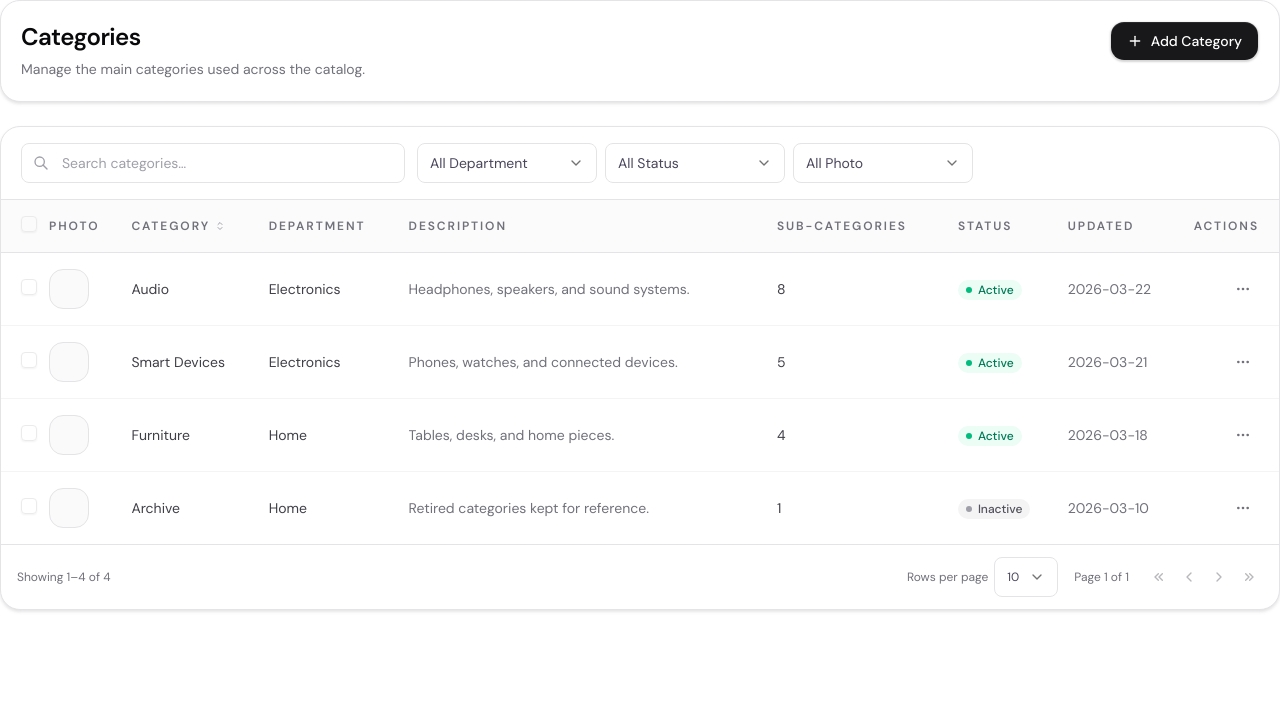
Test case: CategoriesModule › opens add dialog when clicking Add Category
Step 1. Click the button "Add Category" → (1184, 41), box [1110,21,1259,61]
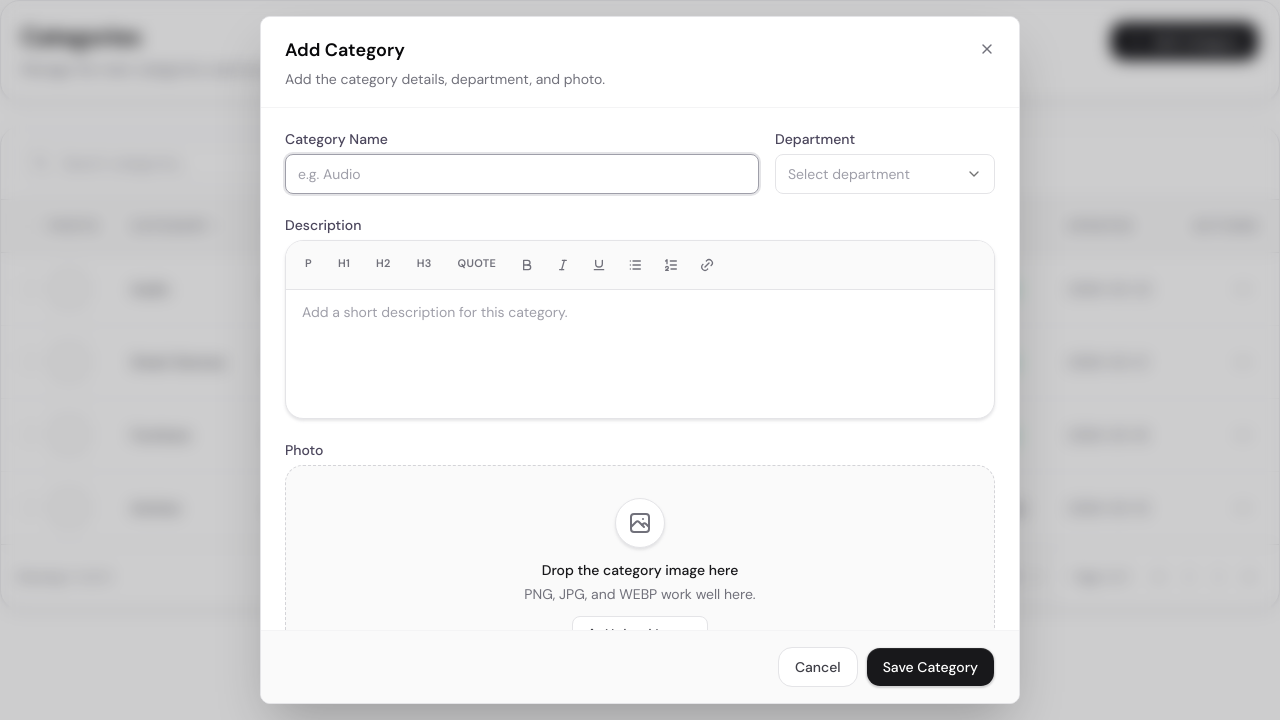
expect the heading "Add Category" is shown: met, box [285,38,405,62]
